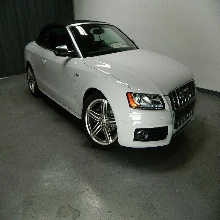no damage: (23, 20, 198, 152)
